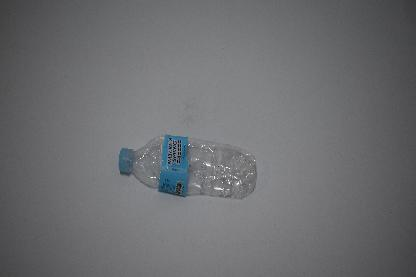Plastic Bottle: (118, 134, 260, 200)
